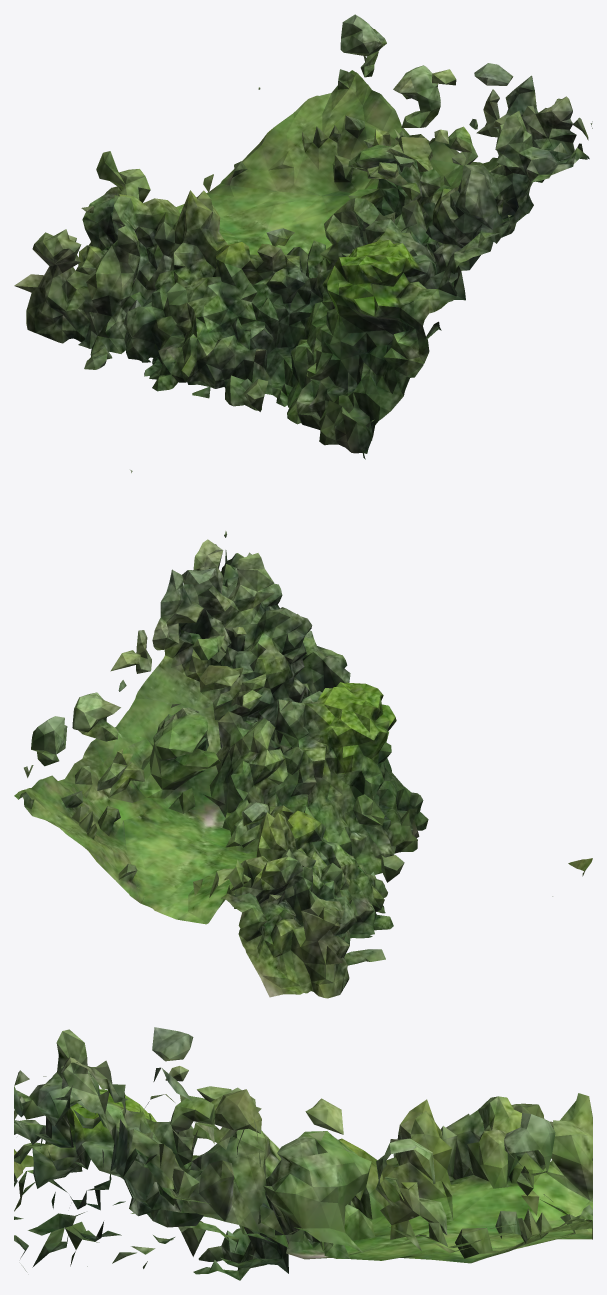
3 views of the same model, one above another, from view 1: azimuth 30°, elevation 25°; view 2: azimuth 150°, elevation 25°; view 3: azimuth 270°, elevation 25° (orthographic). The views are drawn at different scales.
Size of the model in its own units: 104 by 70.88 by 104.
5 materials, 5 textured.
